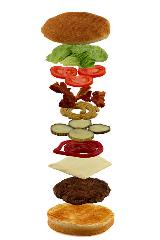organic: (41, 6, 115, 42), (42, 207, 124, 231), (54, 176, 116, 204), (44, 48, 114, 66), (48, 82, 78, 110), (48, 143, 108, 153), (49, 122, 75, 136), (80, 65, 112, 75), (66, 128, 98, 138), (68, 73, 96, 84), (50, 66, 74, 78), (88, 124, 115, 134)
